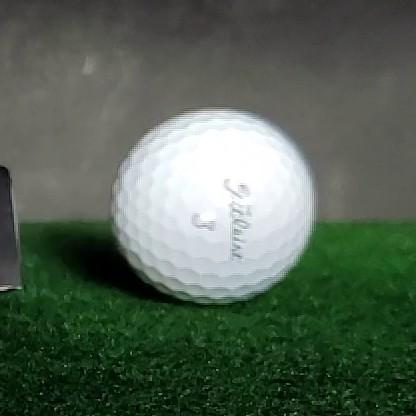golfball: (109, 106, 315, 304)
